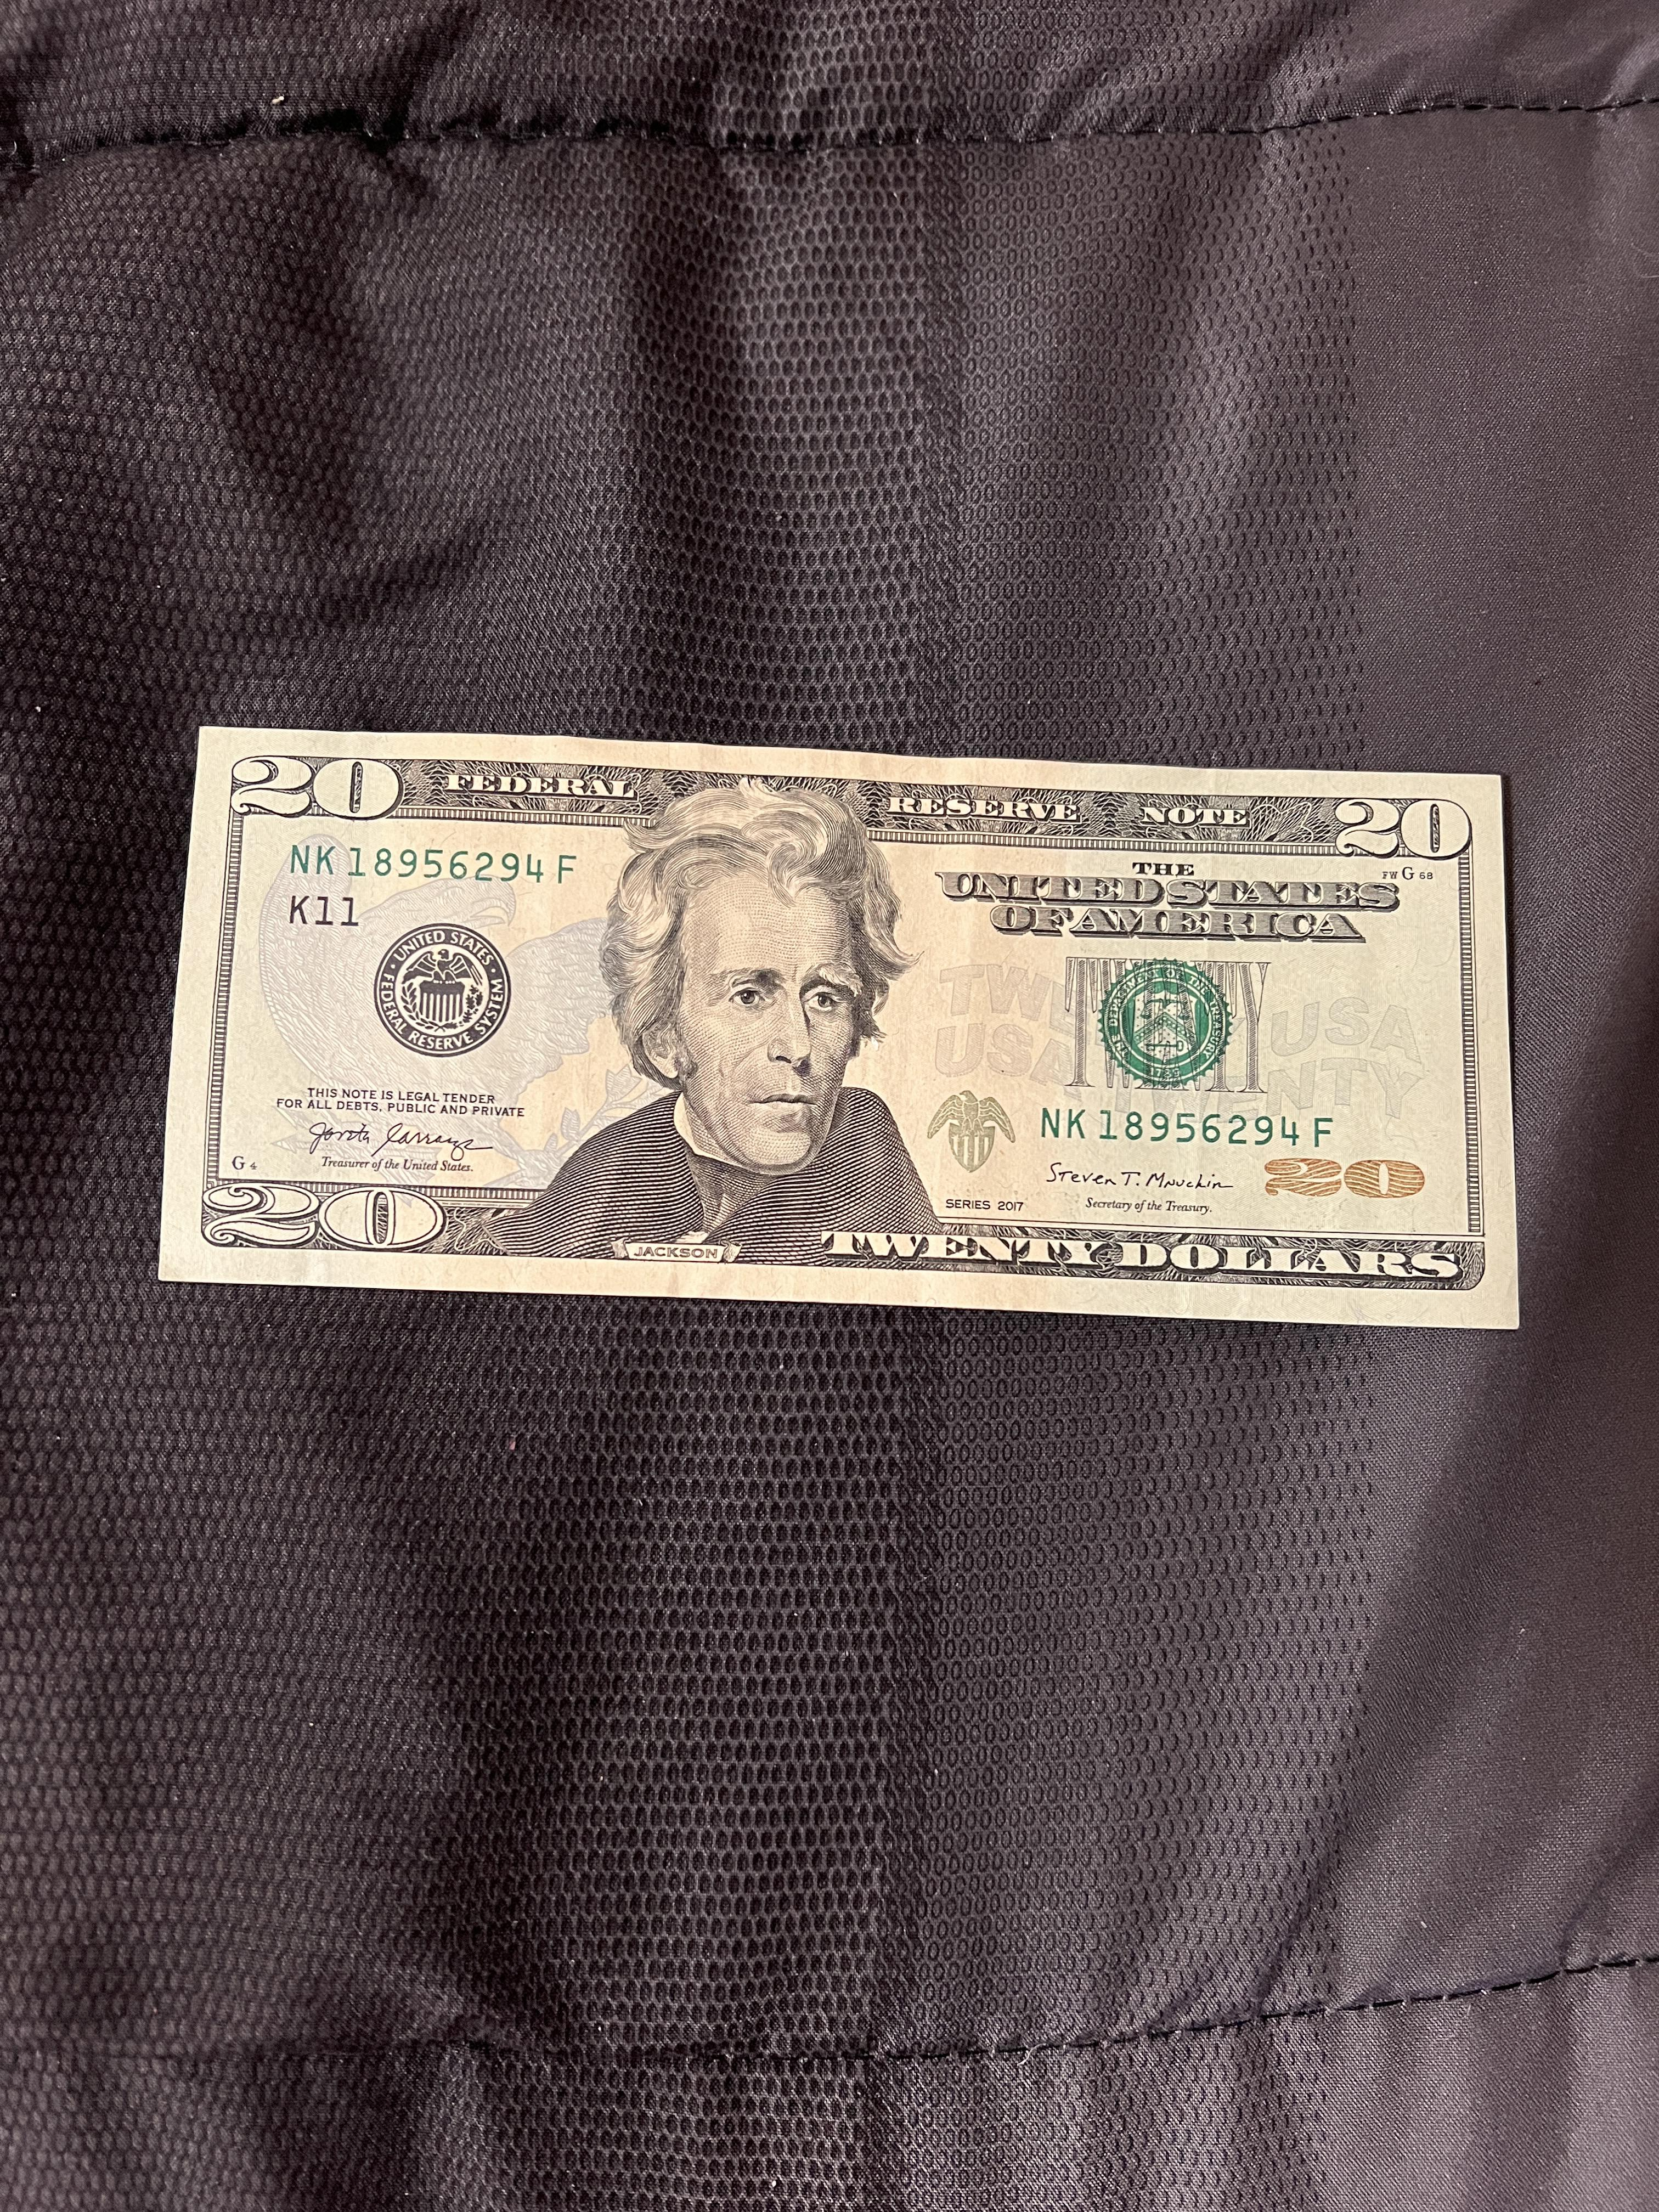TwentyBill: (150, 705, 1551, 1339)
